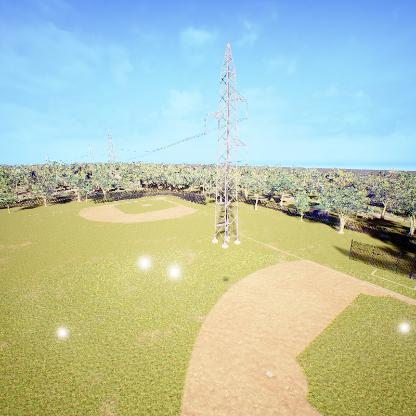tower: (210, 46, 244, 252)
